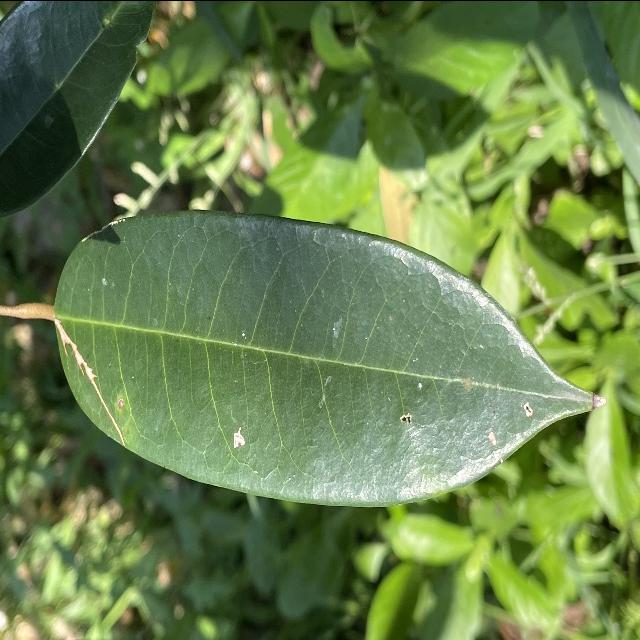No Disease: (41, 195, 612, 514)
